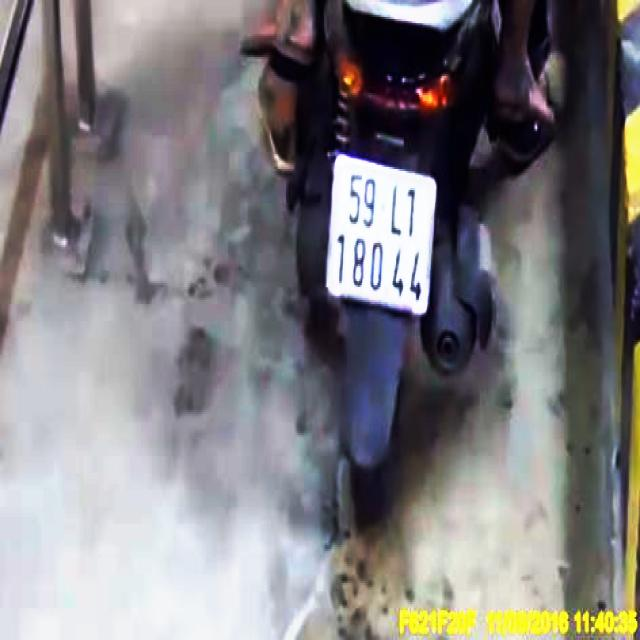license_plate: (325, 159, 439, 319)
